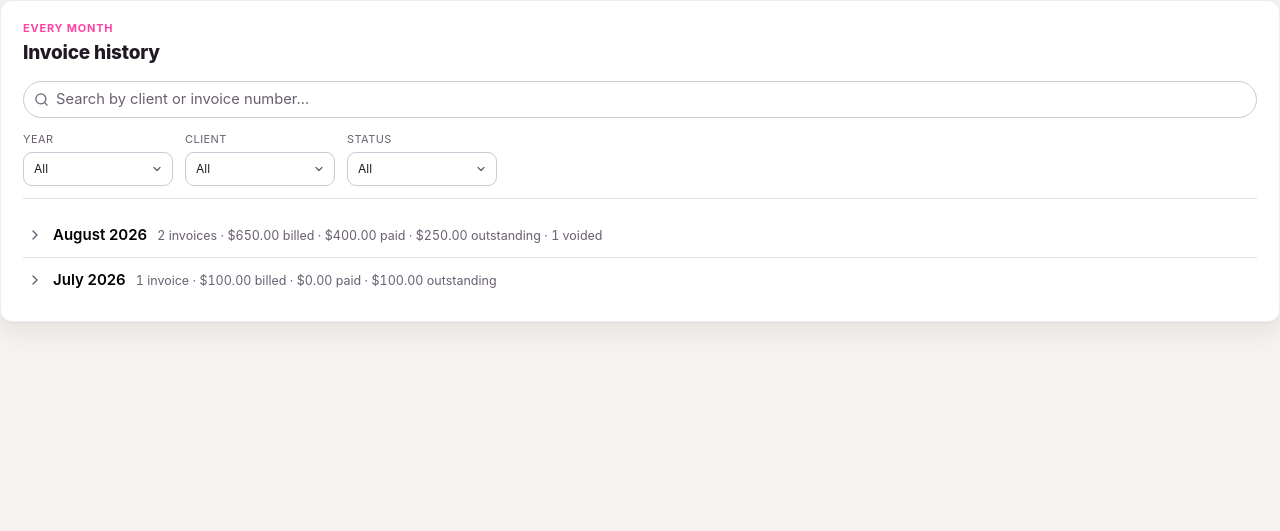
Test: InvoiceHistory › starts collapsed and opens on click
Expected: the text "INV-2026-08-001" is not shown
Step 1. Click the button "August 2026" → (100, 234), box [23,213,1257,257]
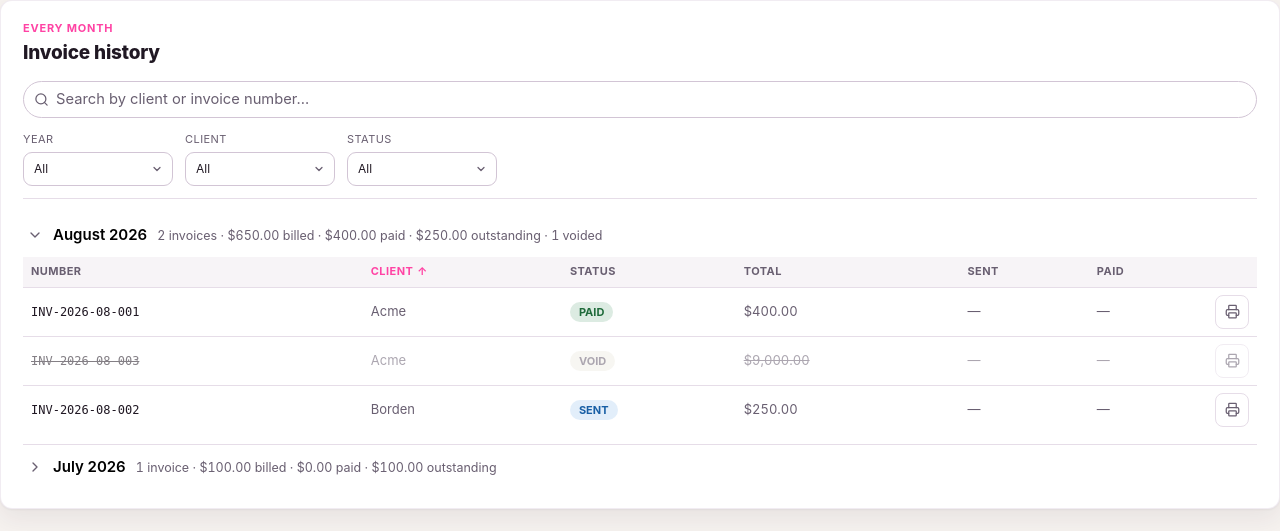
Expected: the button "August 2026" is expanded, [23,213,1257,257]
Expected: the button "INV-2026-08-001" is shown, [31,304,139,321]
